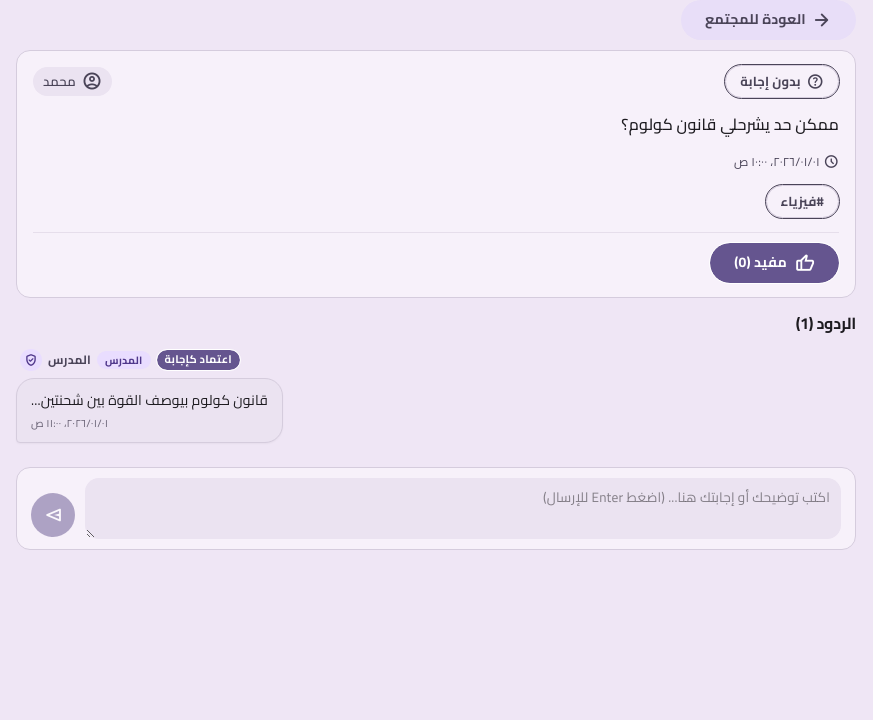
Test case: DiscussionDetailPage › lets the question author accept a reply as the answer, marking the thread answered
The width and height of the screenshot is (873, 720).
Expected: the text "قانون كولوم بيوصف القوة بين شحنتين..." is shown, [31,389,268,411]
Click the button "اعتماد كإجابة".
click(198, 360)  # box [157,350,240,370]
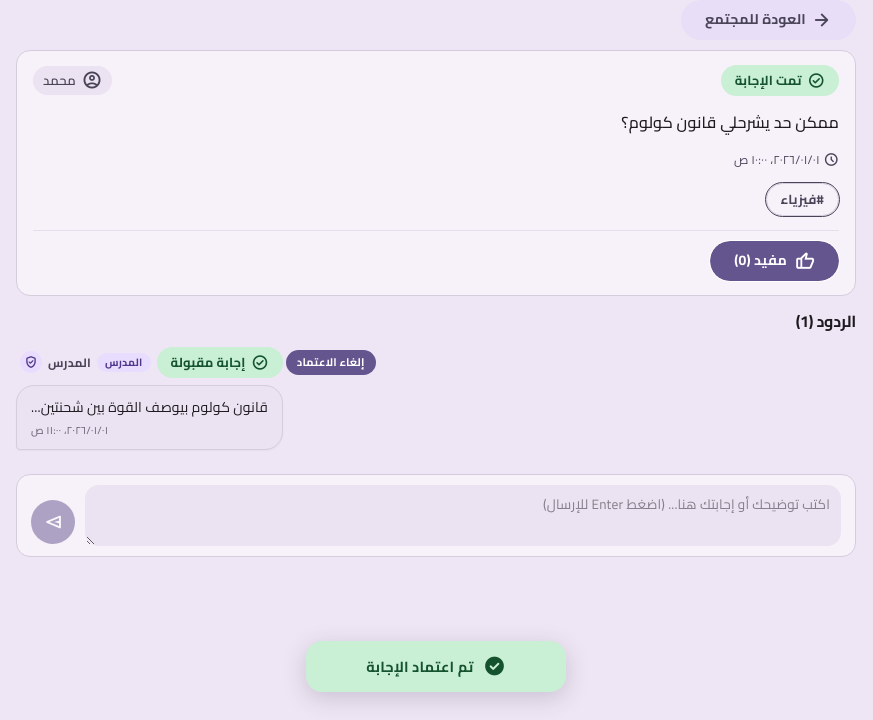
Now the text "إجابة مقبولة" is shown, box [157,347,283,378]
